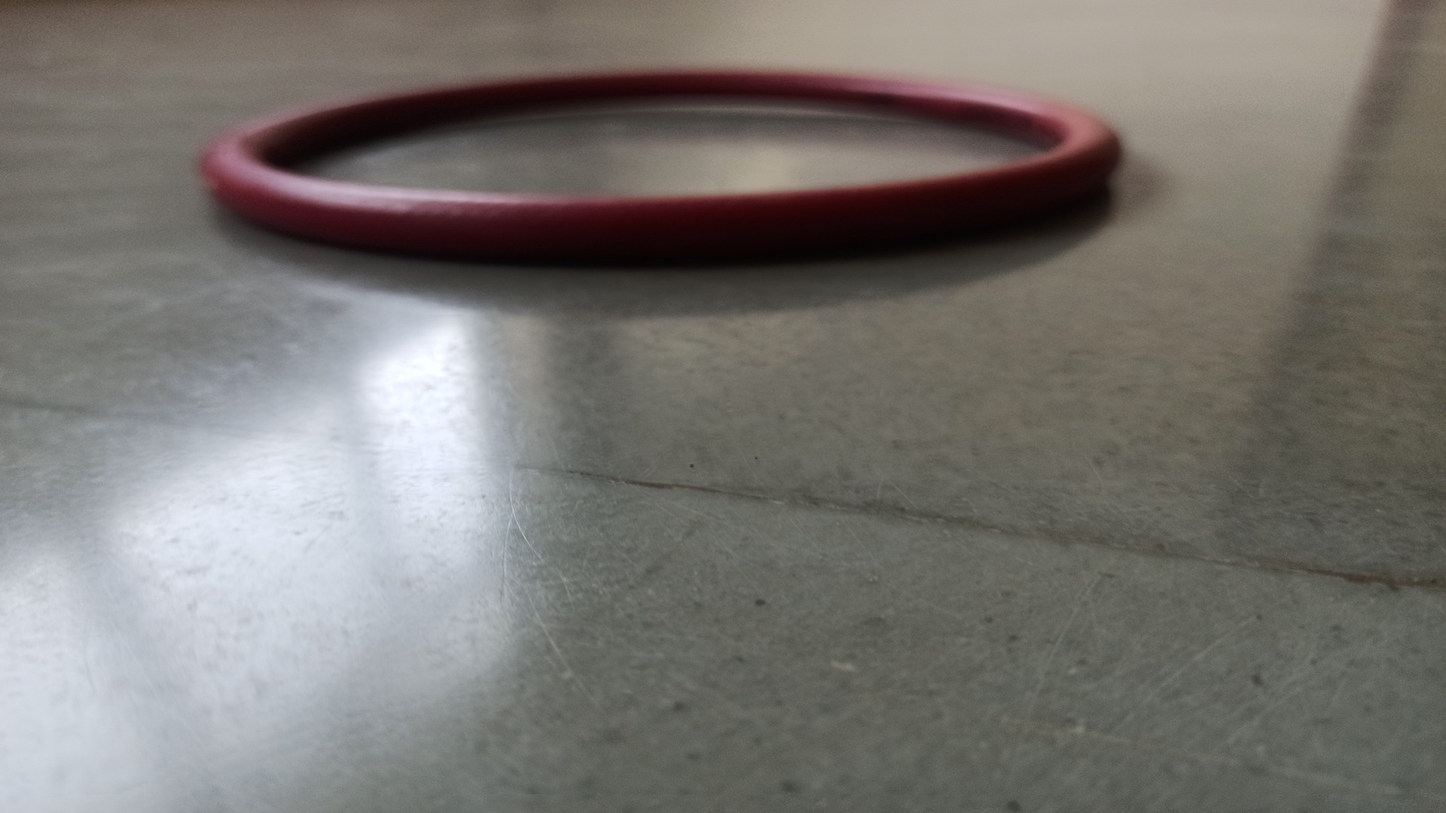Red ring: (203, 66, 1120, 251)
